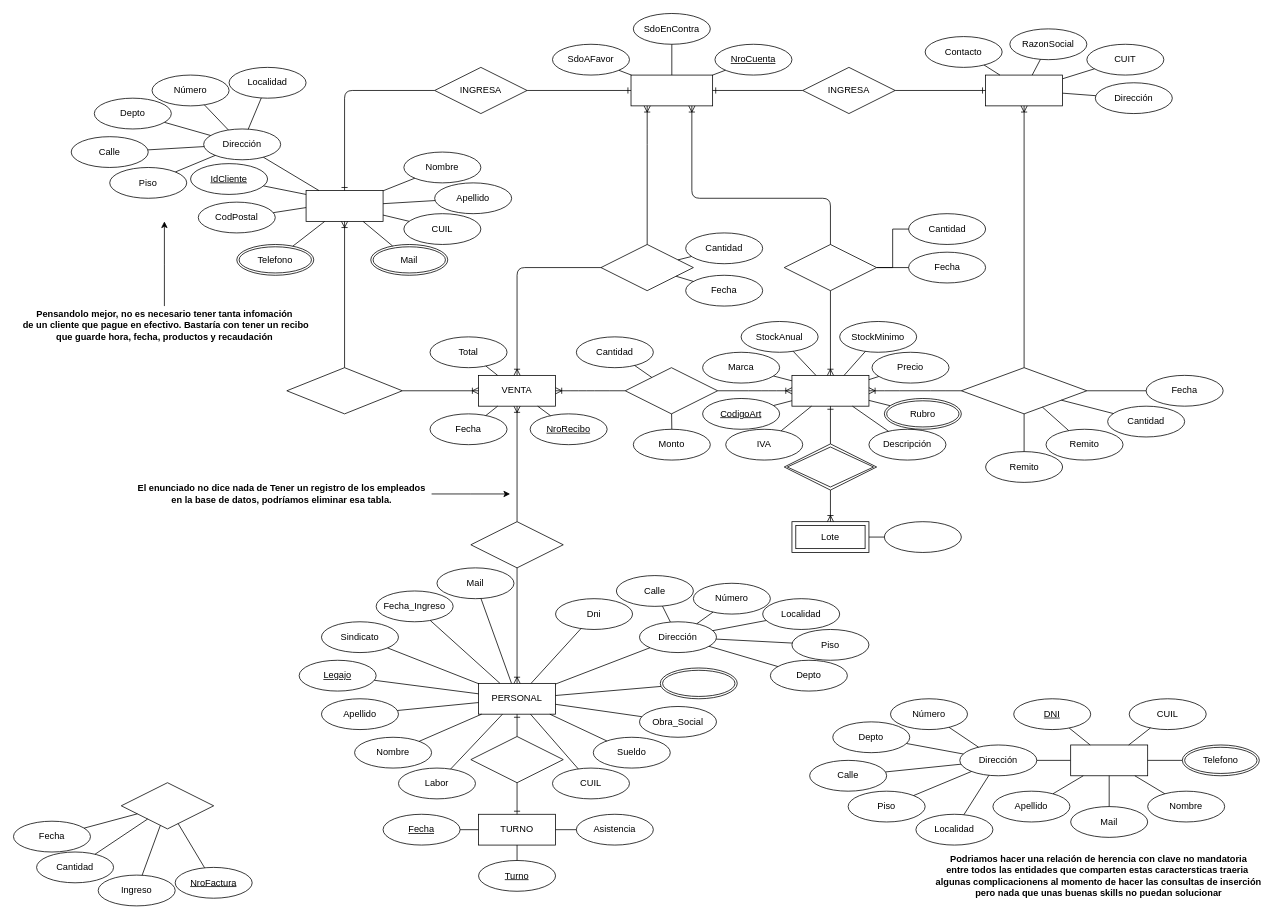
The diagram is 1281 pixels wide and 919 high, and some of its shapes have lost their labels. Each missing label, with the centre of its shape:
"Aportes" belongs at point 698,683.
"ART_VENDIDO" belongs at point 671,390.
"ARTICULO" belongs at point 830,390.
"CLIENTE" belongs at point 344,205.
"COMPRA_CTA" belongs at point 646,267.
"COMPRA_EFECTIVO" belongs at point 344,390.
"CTA_CORRIENTE" belongs at point 671,90.
"fechaVencimiento" belongs at point 922,536.
"INGRESA_CTA" belongs at point 830,267.
"INGRESA_EFECTIVO" belongs at point 1024,390.
"PERSONA" belongs at point 1109,760.
"PERTENECE" belongs at point 830,466.
"PROVEEDOR" belongs at point 1024,90.
"TRABAJA" belongs at point 516,759.
"VENDE" belongs at point 516,544.
"VENDIDO" belongs at point 167,805.
